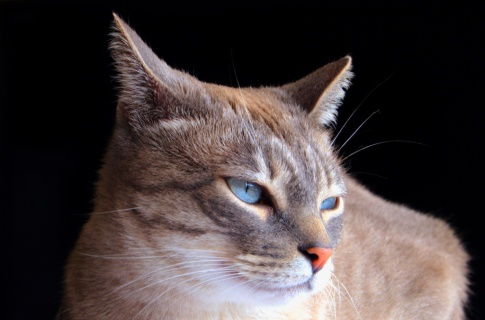Cat: (55, 9, 478, 319)
